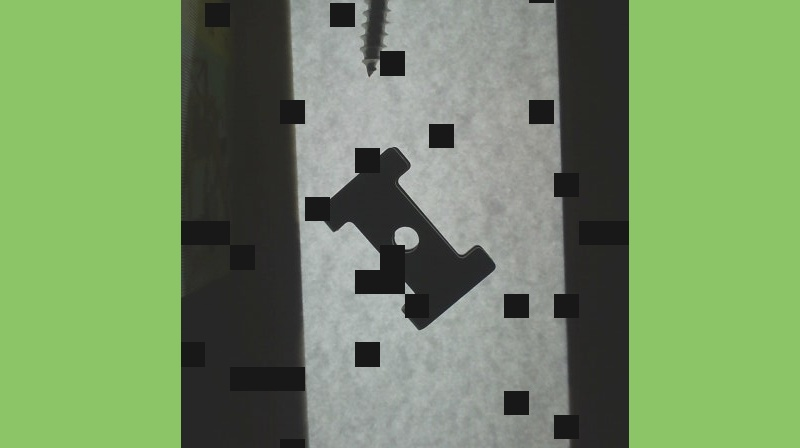O002: (312, 140, 496, 333)
S001: (354, 0, 420, 86)
